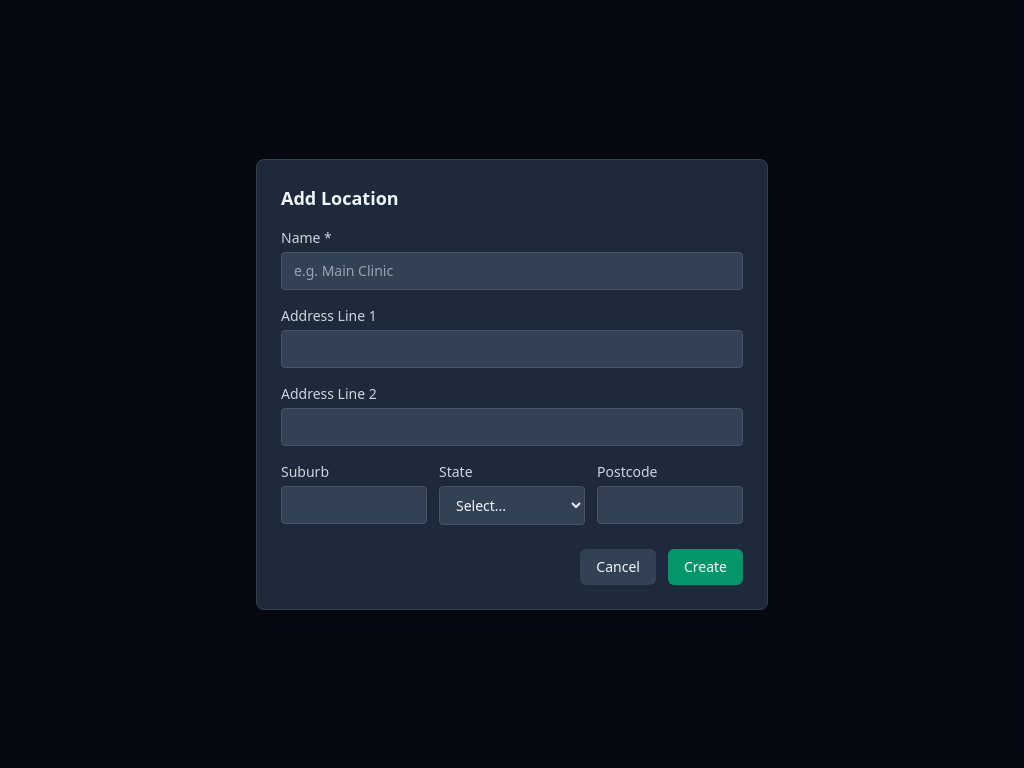
Test: LocationModal › shows error when name is empty
Click the button "Create". click: (705, 566)
box: [668, 548, 743, 584]
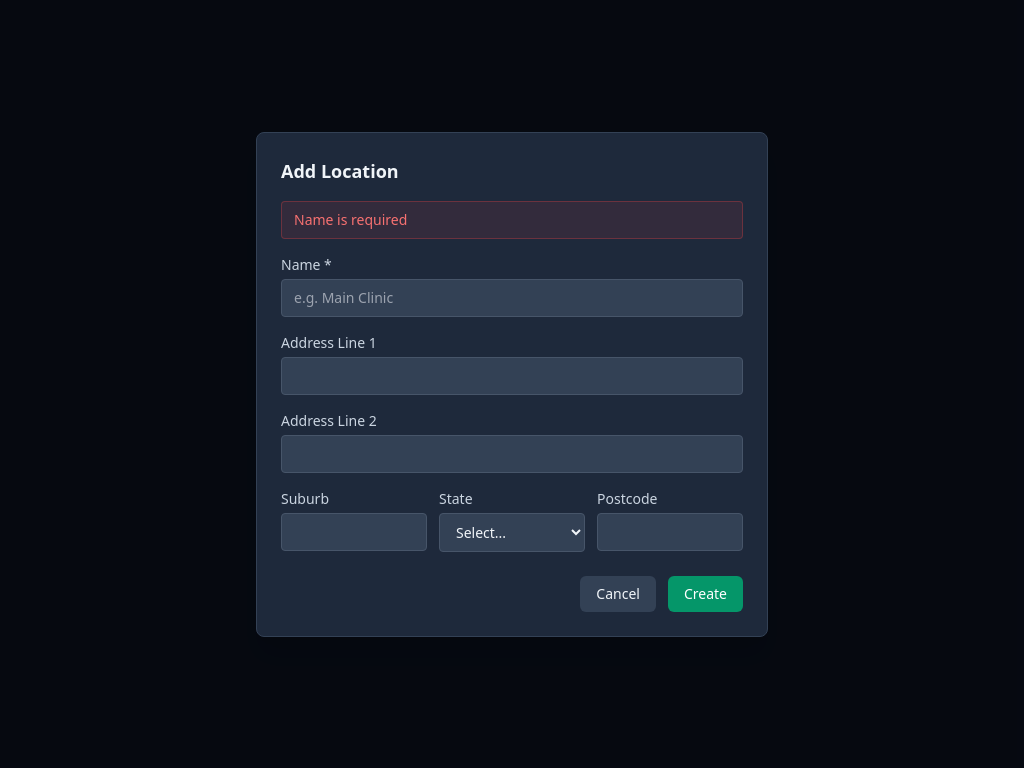
Result: the text "Name is required" is shown at [281, 200, 743, 238]
